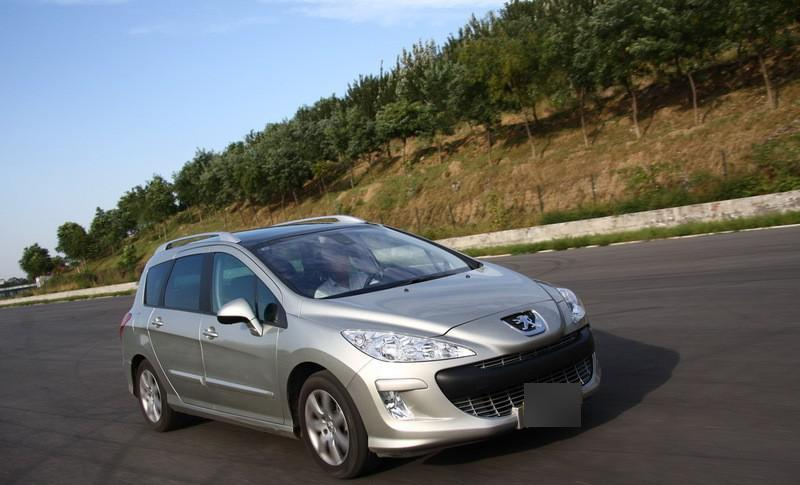Wagon: (119, 213, 603, 481)
